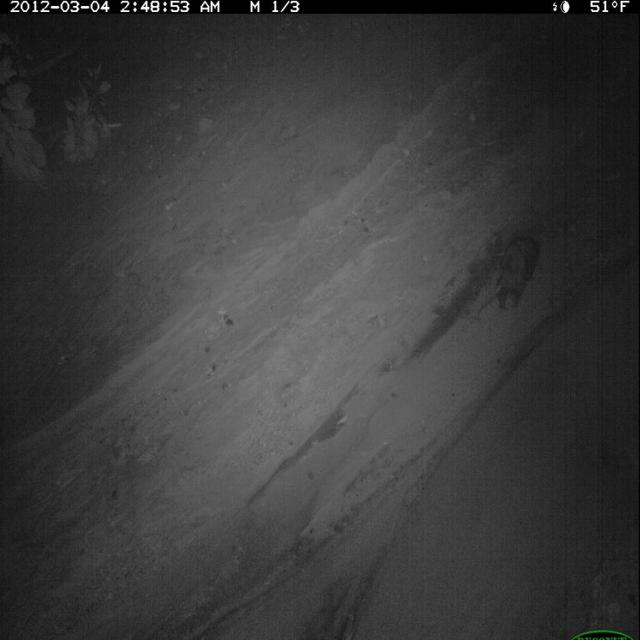opossum: (469, 227, 548, 322)
